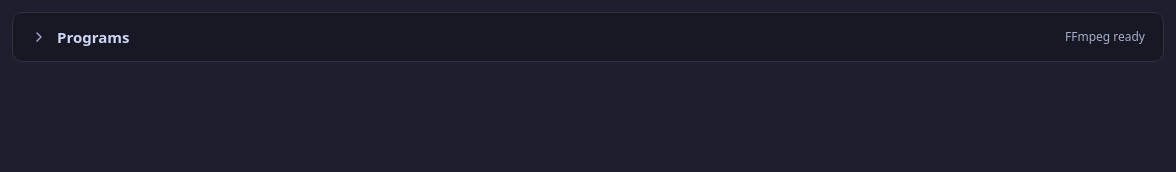
Test case: collapsible box › state_persists
Click the button "Programs FFmpeg ready".
click(93, 37)  # box [13, 13, 1163, 61]
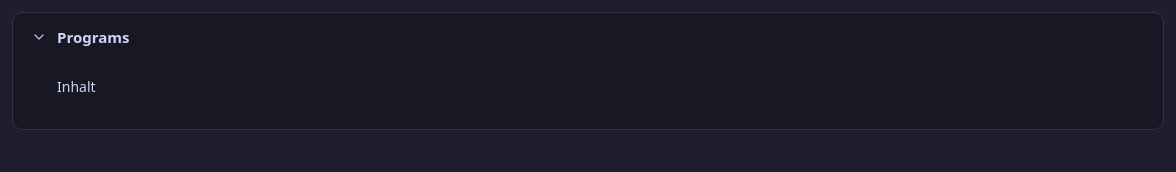
Expected: the text "Inhalt" is shown, [57, 77, 96, 96]
